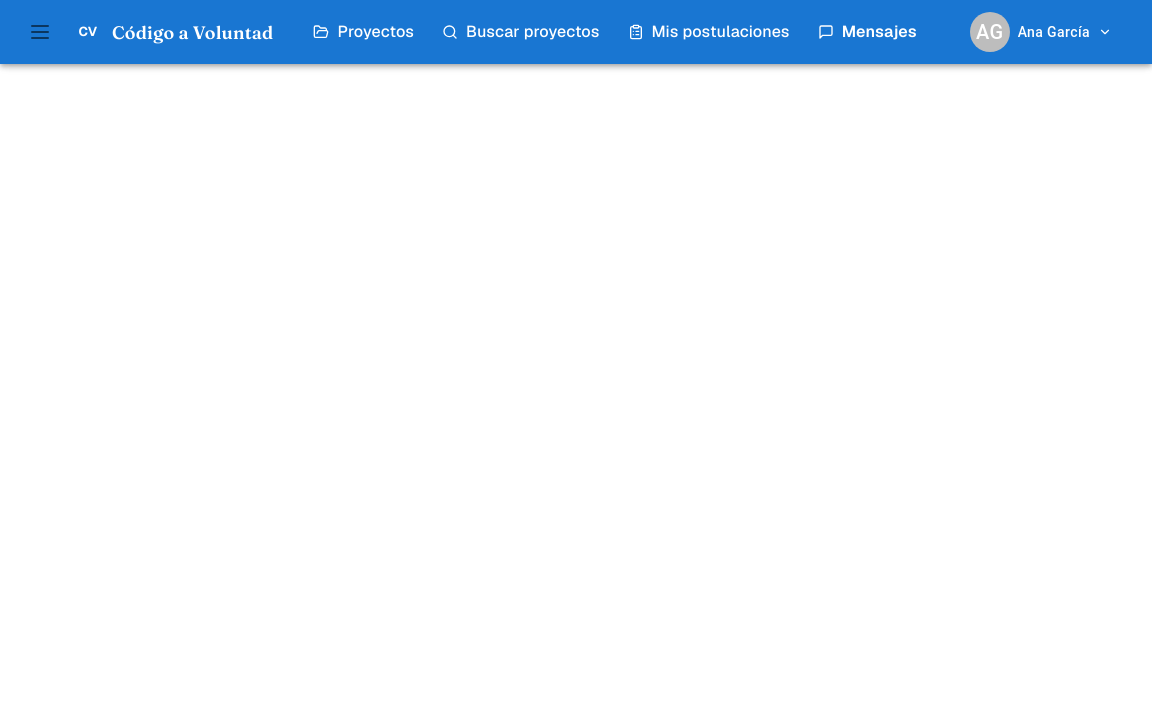
Test: Navbar › muestra a quien tiene la sesión en la barra y en el menú lateral
The image size is (1152, 720).
Expected: the text "Ana García" is shown, [1018,20,1090,44]
Expected: the text "AG" is shown, [970,12,1010,52]
Click the button named "Abrir menú": (40, 32) [20,12,60,52]
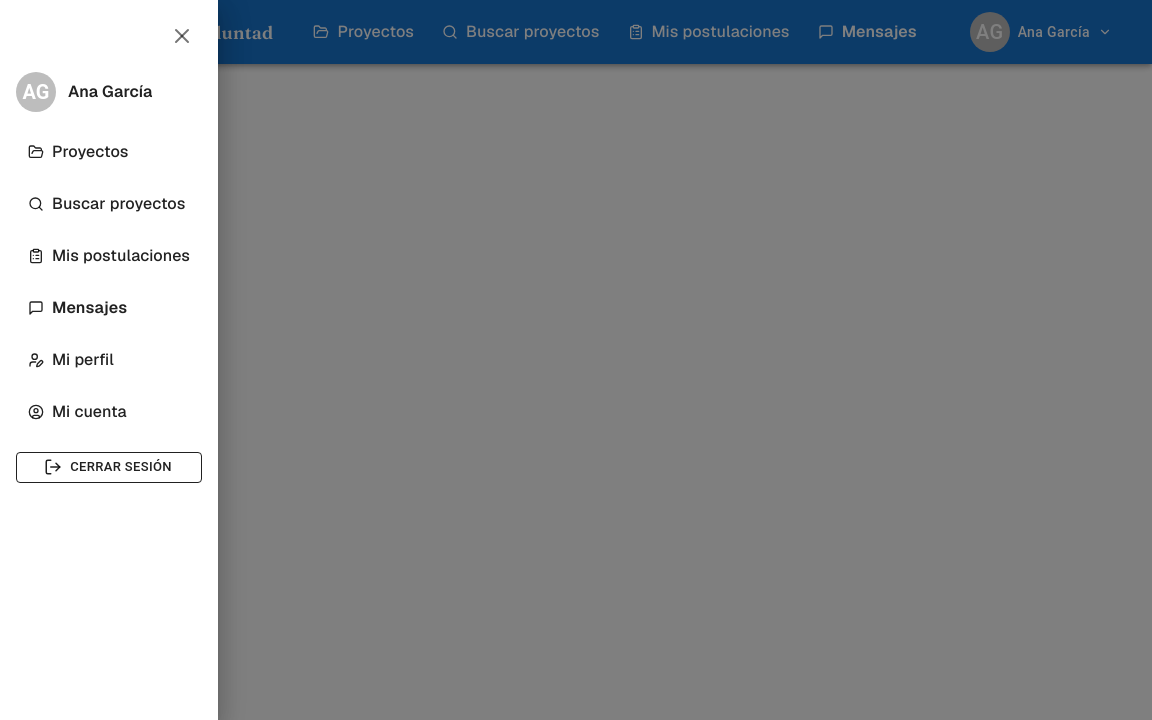
Result: the text "Ana García" is shown at [68,80,152,104]
Result: the text "AG" is shown at [16,72,56,112]
